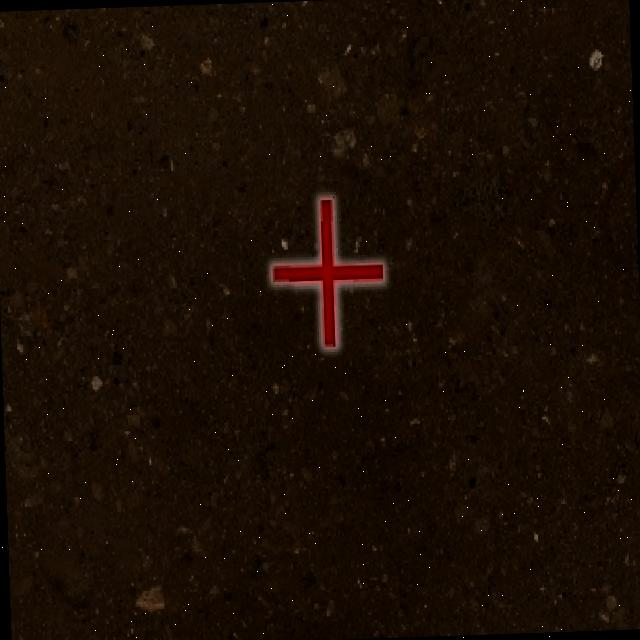x_marker: (269, 197, 384, 347)
